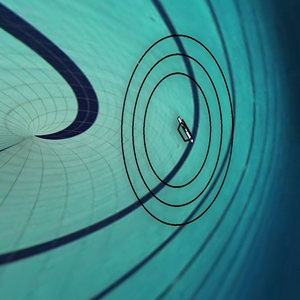circle: (109, 28, 244, 232)
submarine: (168, 112, 200, 152)
